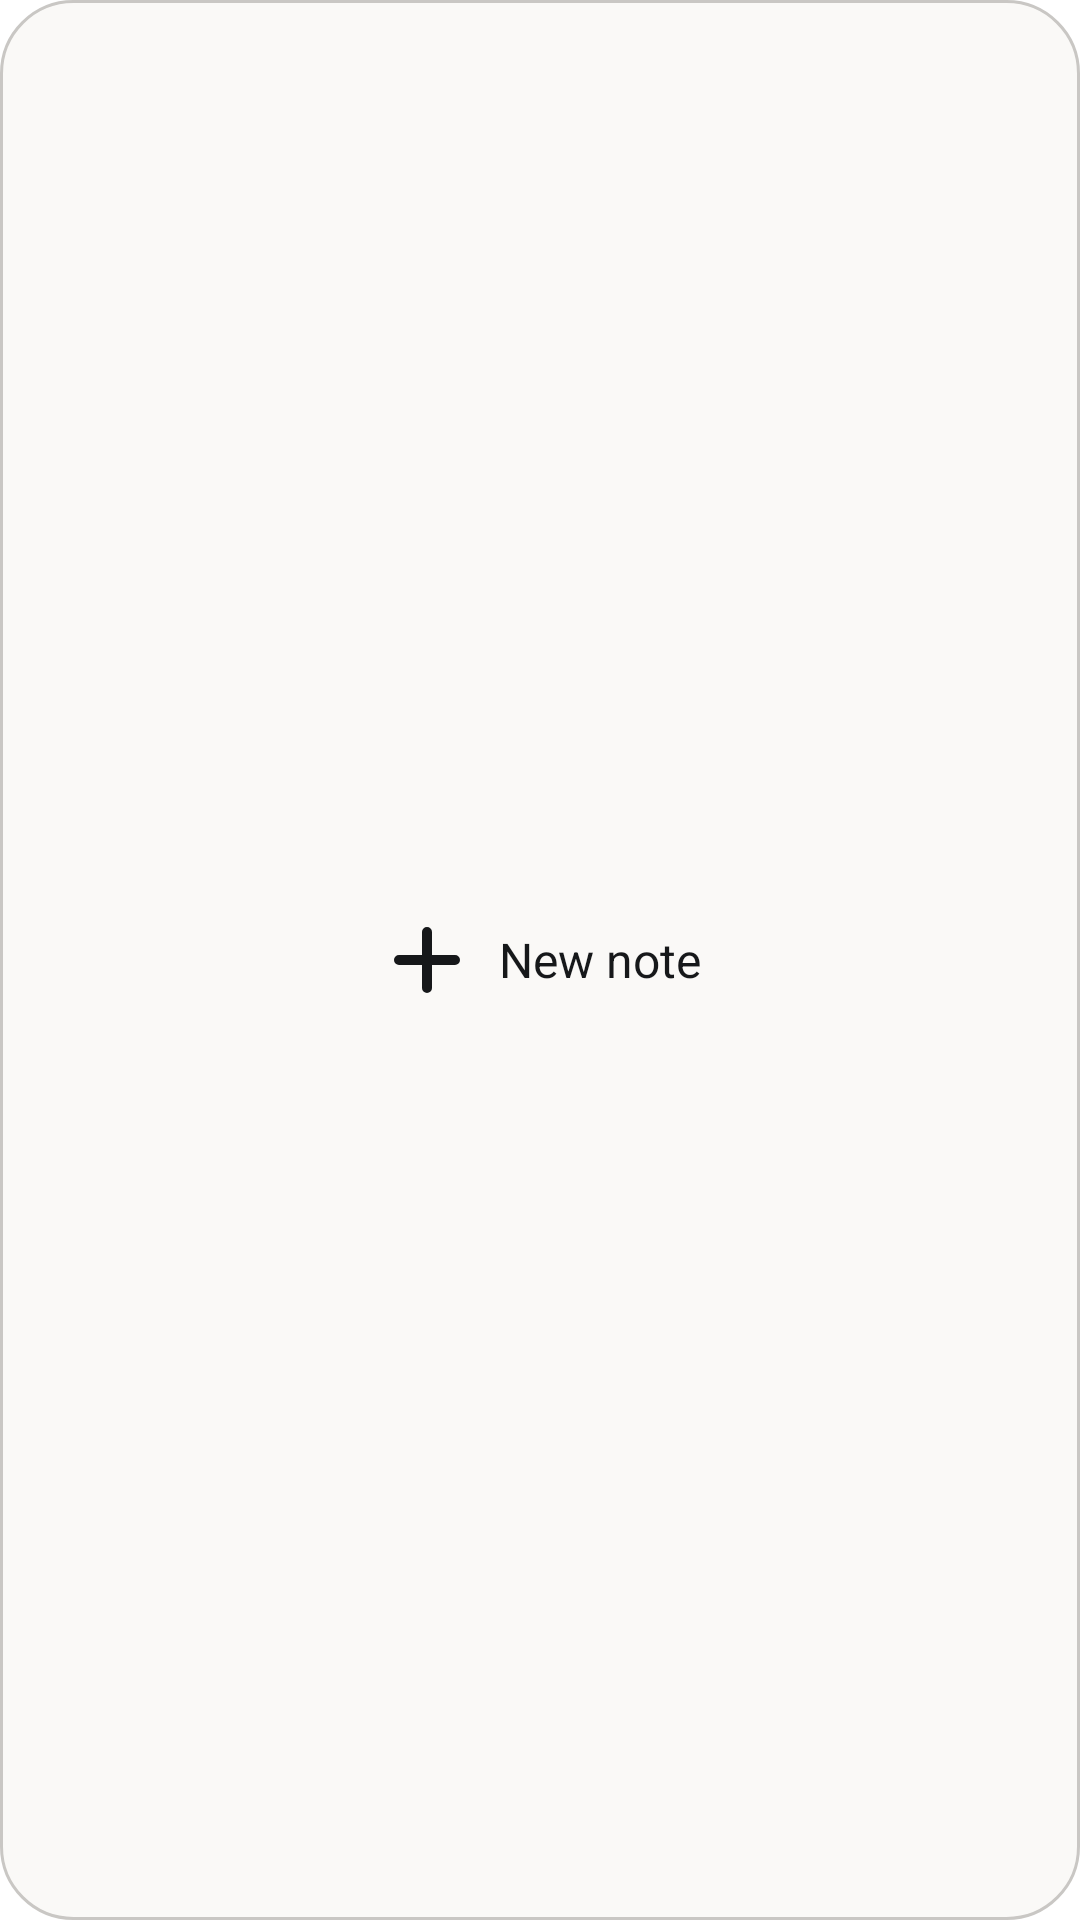

Screen size 1080w x 1920h. Icon name, then its box in pixels as (x1, y1, x2, y2):
widget plus: (394, 927, 460, 993)
